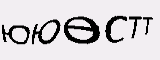С: (105, 14, 127, 45)
Т: (126, 15, 142, 39), (141, 16, 155, 35)
Ю: (30, 18, 61, 46), (1, 22, 30, 44)
Ө: (64, 16, 100, 45)
